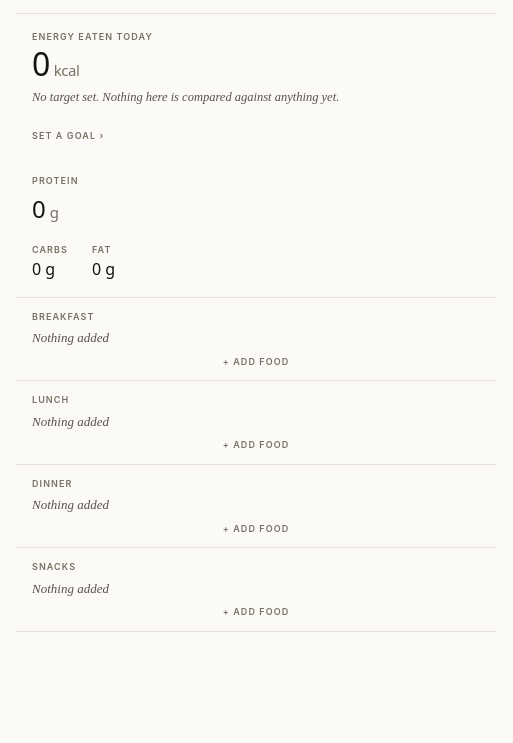
EatDay — logging › quick-adds without any food database behind it
Click the button with test id "add-food-lunch".
click(256, 445)  # box top-left (32, 438), bottom-right (480, 452)
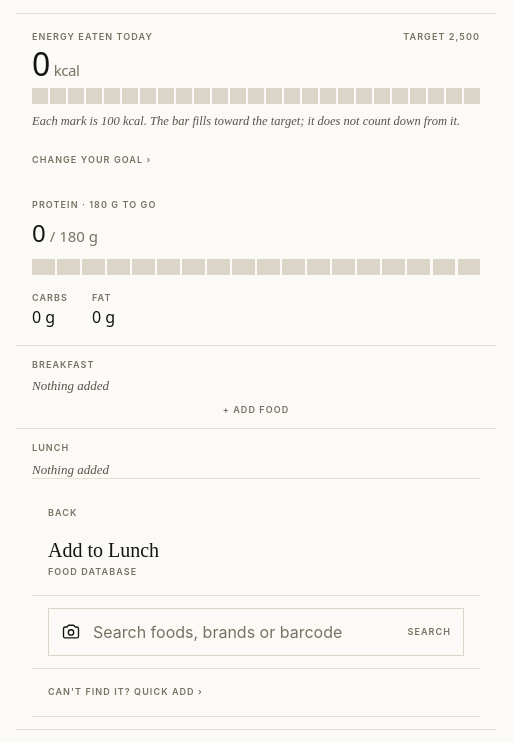
Click the button "Can't find it? Quick add ›".
click(125, 692)  # box top-left (32, 668), bottom-right (480, 716)
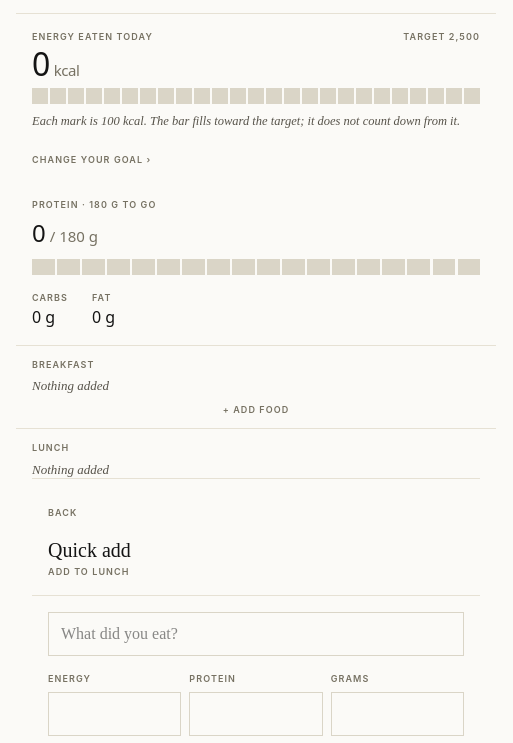
Type "Chicken and rice" into the field with test id "food-name-input".
click(256, 634); type("Chicken and rice")  # box top-left (48, 612), bottom-right (464, 656)
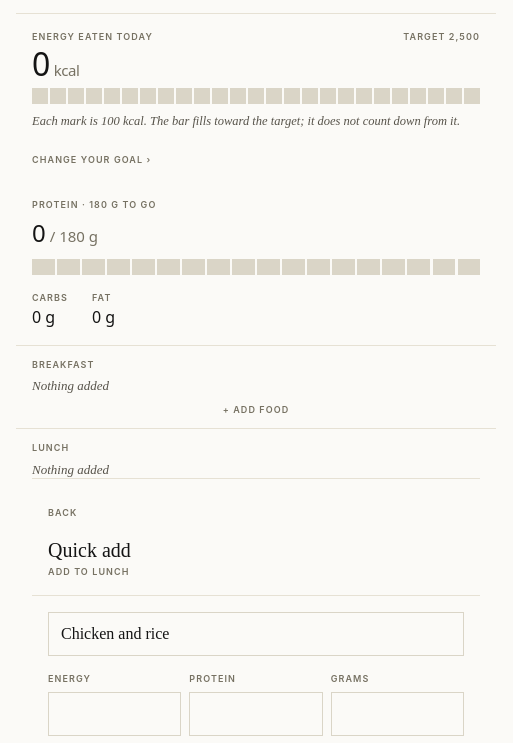
Type "760" into the field with test id "food-kcal-input".
click(115, 714); type("760")  # box top-left (48, 692), bottom-right (181, 736)
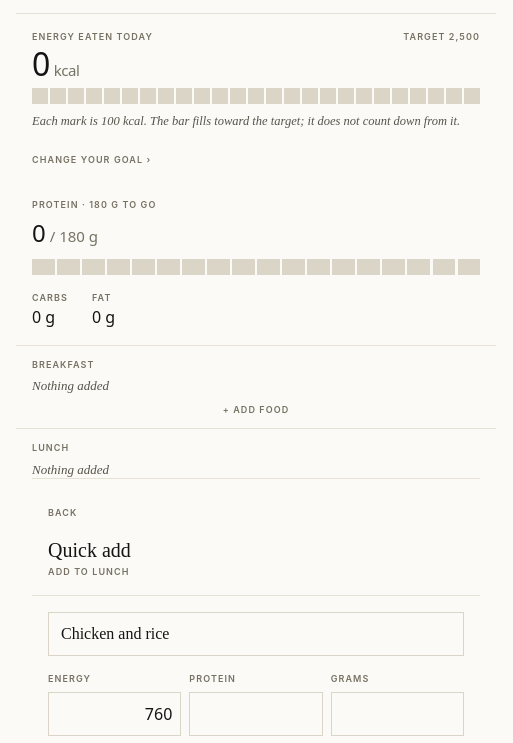
Type "62" into the field with test id "food-protein-input".
click(256, 714); type("62")  # box top-left (189, 692), bottom-right (323, 736)
(page scrolled)
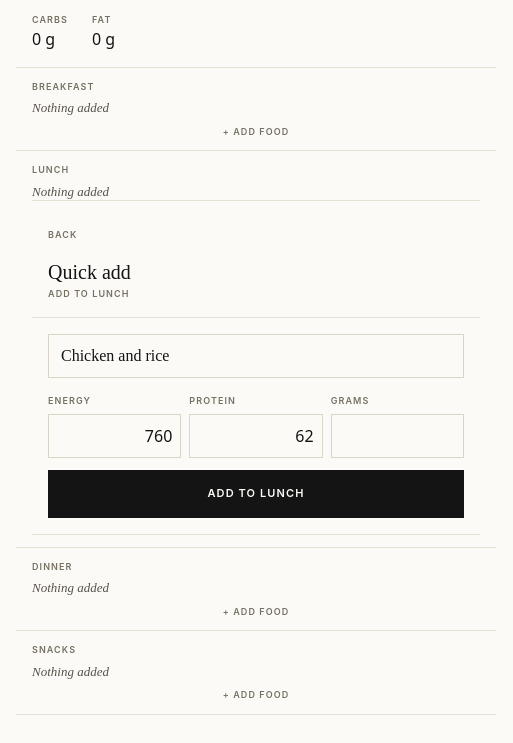
Click the button with test id "food-save-button".
click(256, 494)  # box top-left (48, 470), bottom-right (464, 518)
(page scrolled)
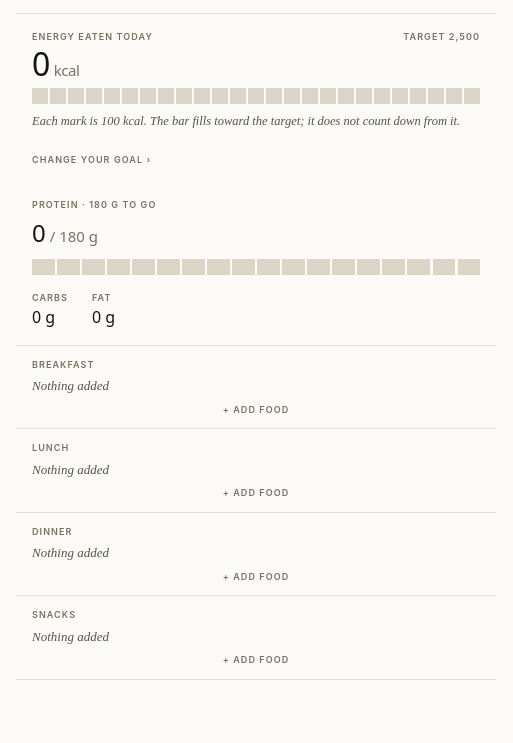
Result: the button with test id "food-save-button" is gone
Result: the button with test id "add-food-lunch" is shown at top-left (32, 486), bottom-right (480, 500)
